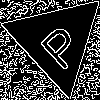P: (31, 16, 86, 72)
